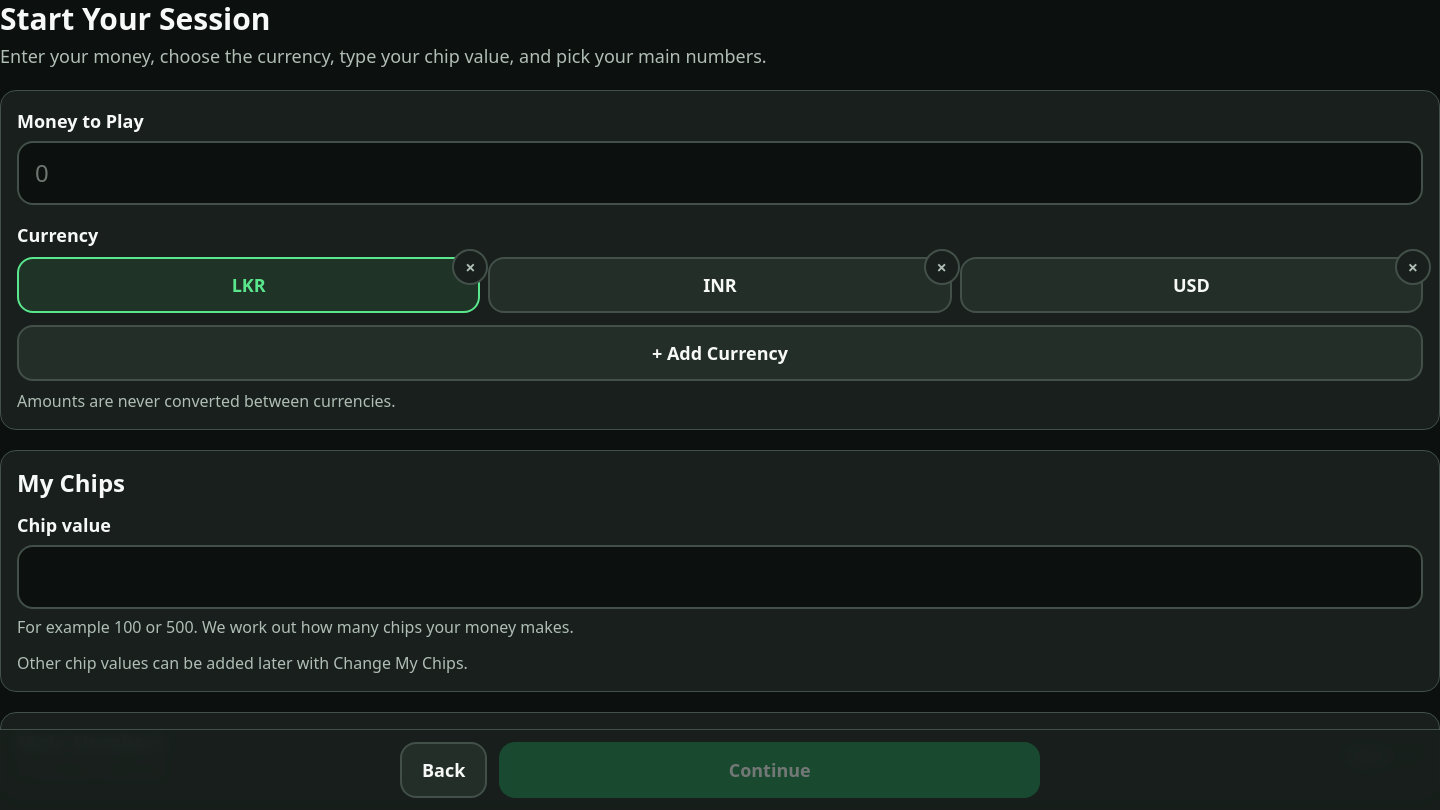
Test: remove a currency with its X button › each currency has an X; removing asks first, updates the list and keeps it for next time
Expected: the number of buttons named "Remove " is 3, [452, 248, 488, 284]; [924, 248, 960, 284]; [1395, 248, 1431, 284]
Click the radio button labelled "INR": (720, 284) [488, 256, 952, 312]
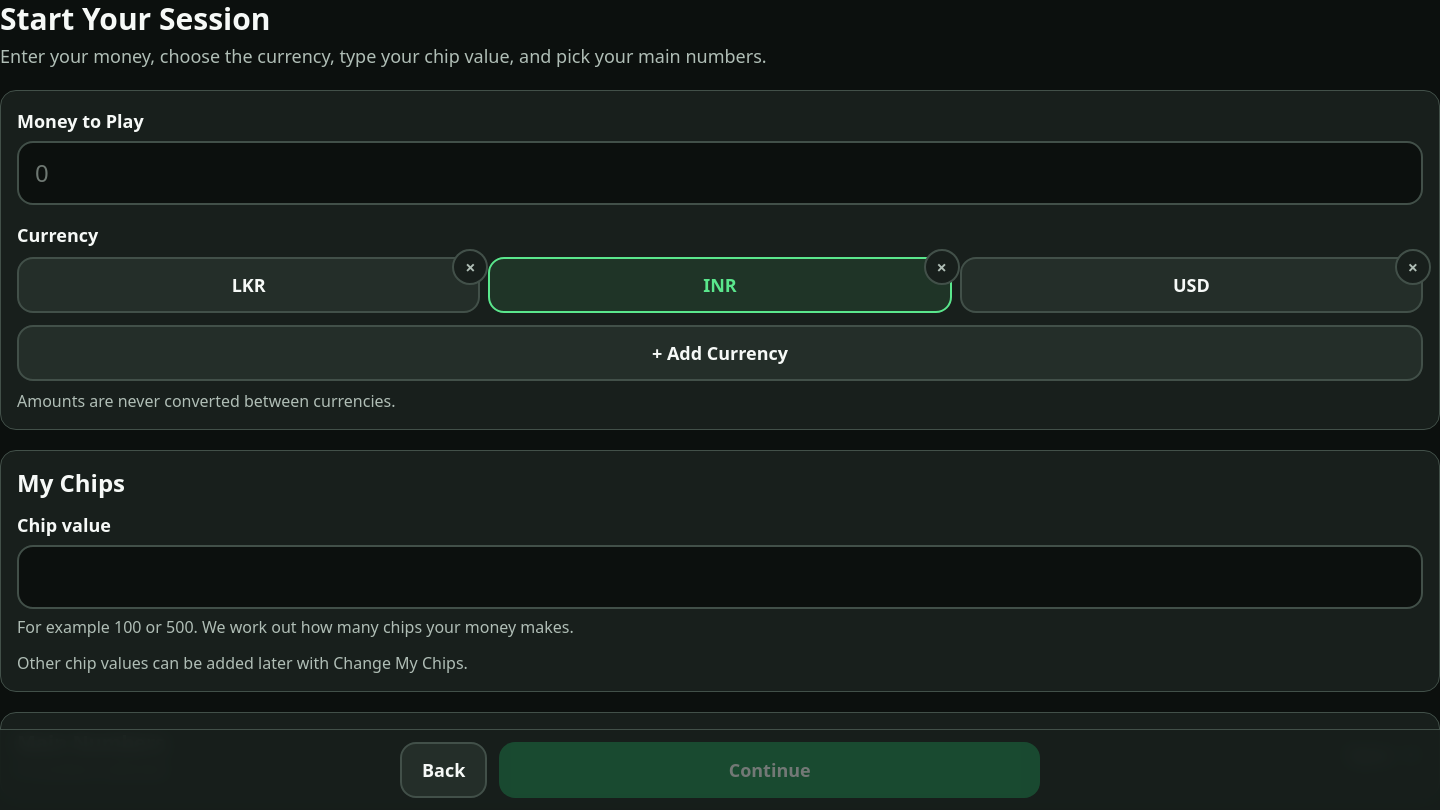
Click the button named "Remove INR": (942, 266) [924, 248, 960, 284]
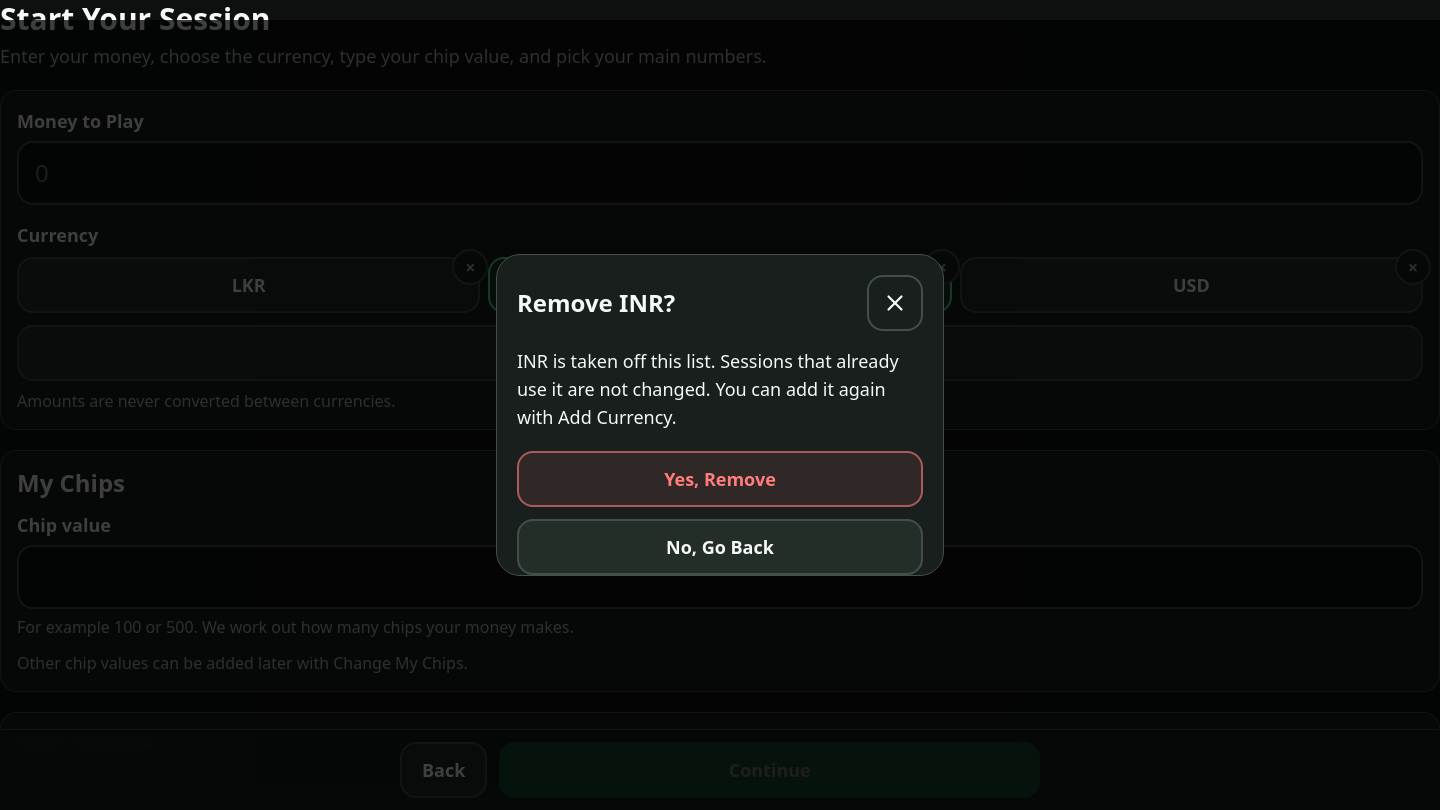
Result: the text "INR is taken off this list" is shown at [517, 347, 923, 431]
Click the button "Yes, Remove": (720, 479) [517, 451, 923, 507]
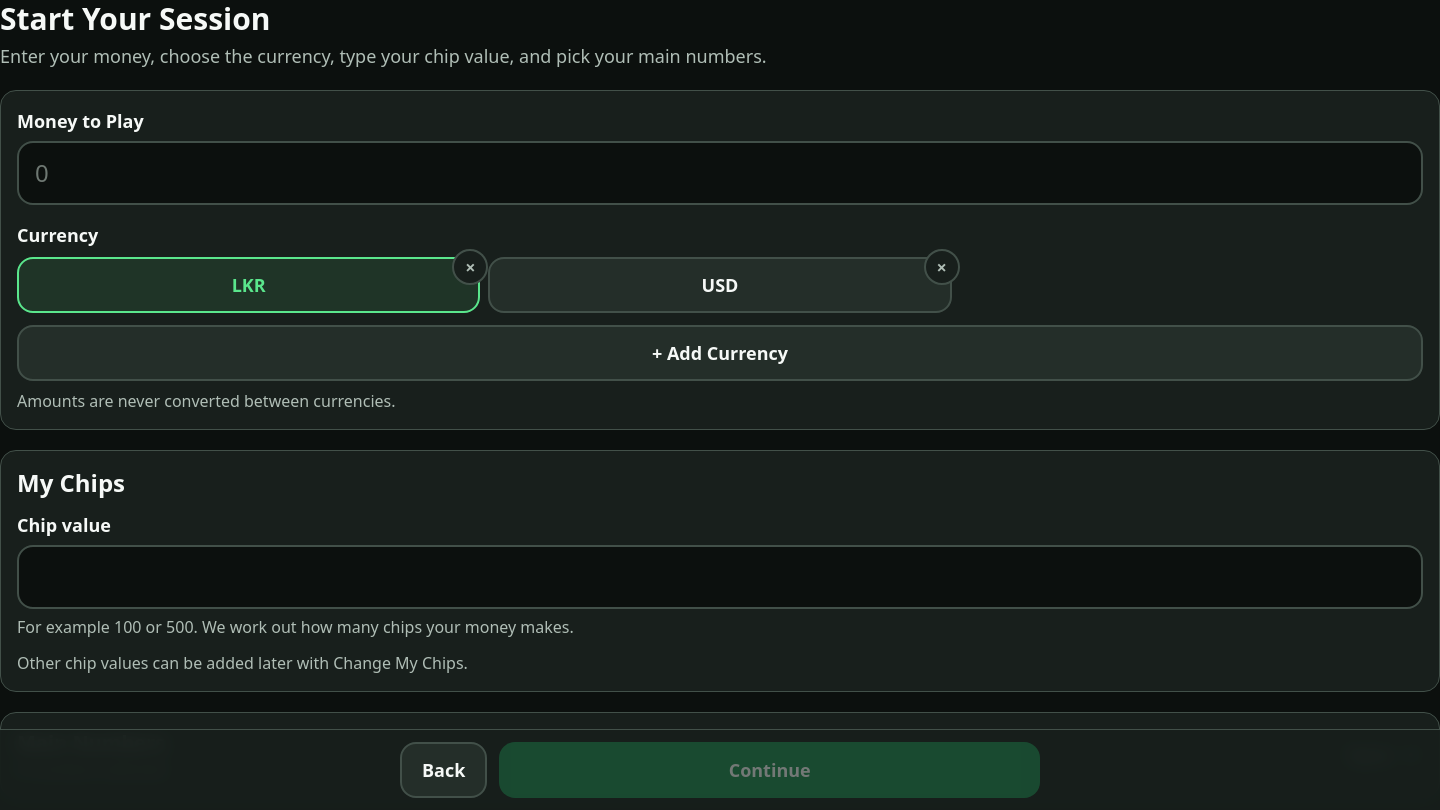
Result: the radio buttons read "LKR", "USD", in this order at [17, 256, 480, 312]; [488, 256, 952, 312]
